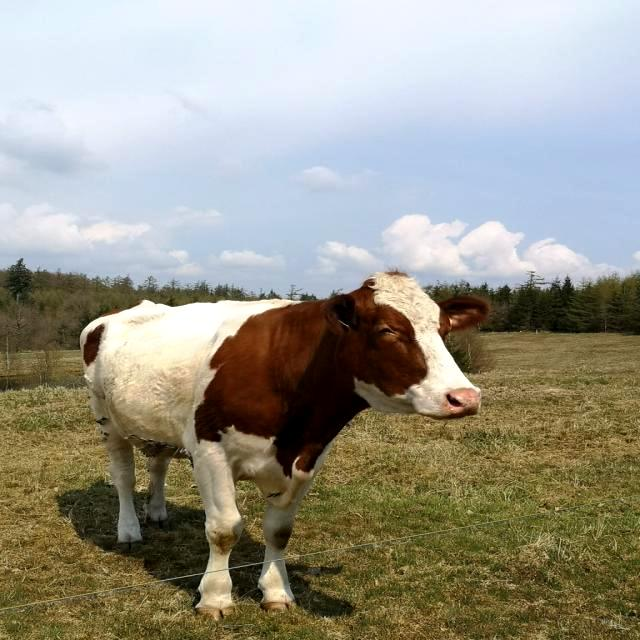COW: (80, 272, 489, 617)
